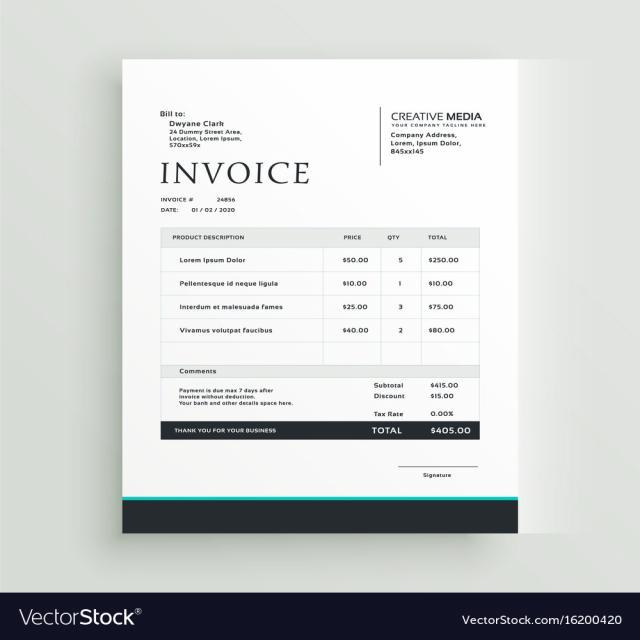customer_address: (168, 129, 247, 151)
customer_name: (168, 119, 227, 128)
invoice_date: (190, 206, 262, 220)
invoice_number: (213, 195, 261, 203)
invoice_subtotal: (427, 378, 473, 391)
invoice_total: (424, 423, 480, 440)
item_description: (174, 251, 300, 344)
item_quantity: (388, 251, 411, 349)
item_total_price: (424, 255, 460, 341)
item_unit_price: (336, 252, 369, 349)
supplier_address: (387, 130, 464, 158)
supplier_name: (386, 109, 490, 122)
tax_rate: (427, 406, 466, 420)
